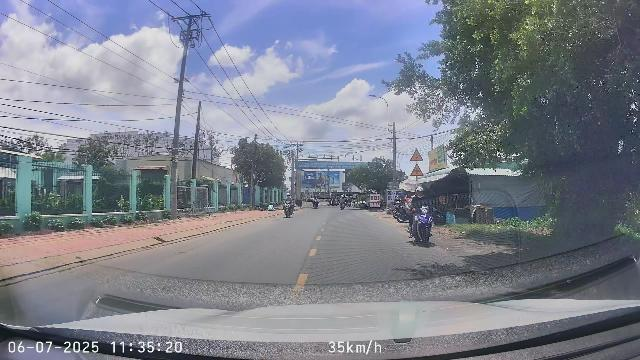209-giao-nhau-co-tin-hieu-den: (410, 149, 423, 161)
